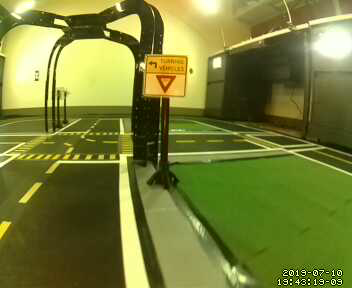Turn Yield: (143, 53, 187, 98)
